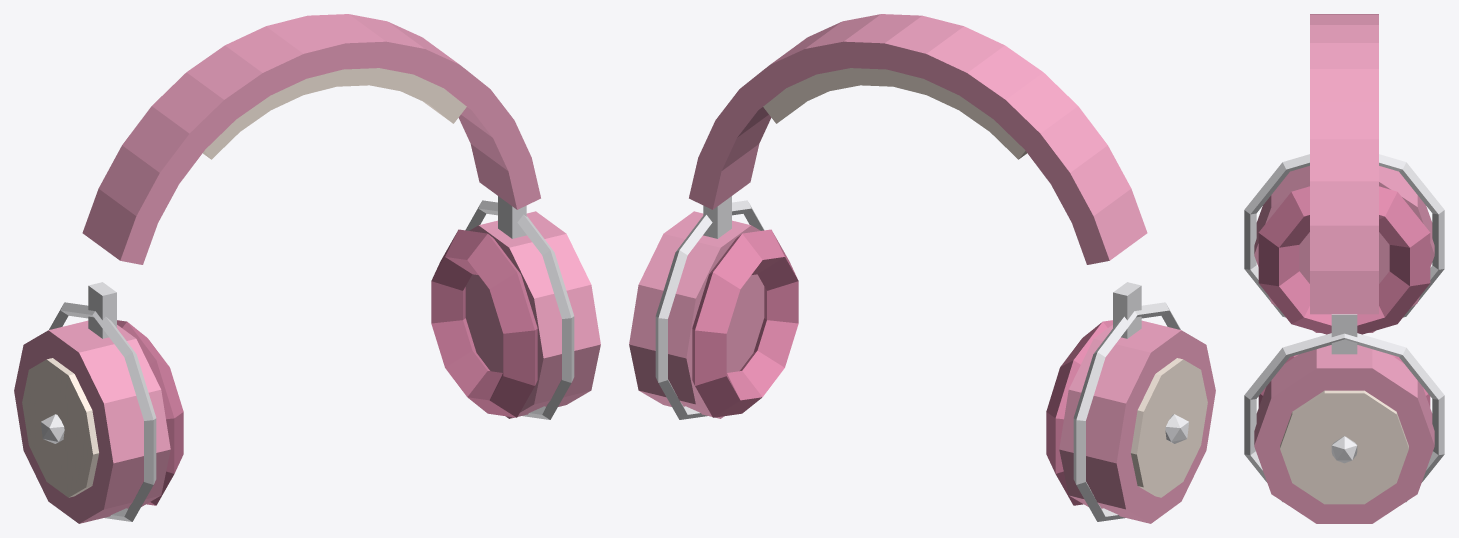
Rendered from headphones.glb.
3 renders of one model, left to right at view 1: azimuth 30°, elevation 25°; view 2: azimuth 150°, elevation 25°; view 3: azimuth 270°, elevation 25°, orthographic. The views are drawn at different scales.
Parts seen in each view (by area): view 1: Headphones; view 2: Headphones; view 3: Headphones.
Boxes of the visible parts, x1,y1,x2,y2 form: Headphones: (14,14,600,523); Headphones: (629,14,1215,523); Headphones: (1244,14,1444,523).
Size of the model in its own units: 2.59 by 2.02 by 0.932.
